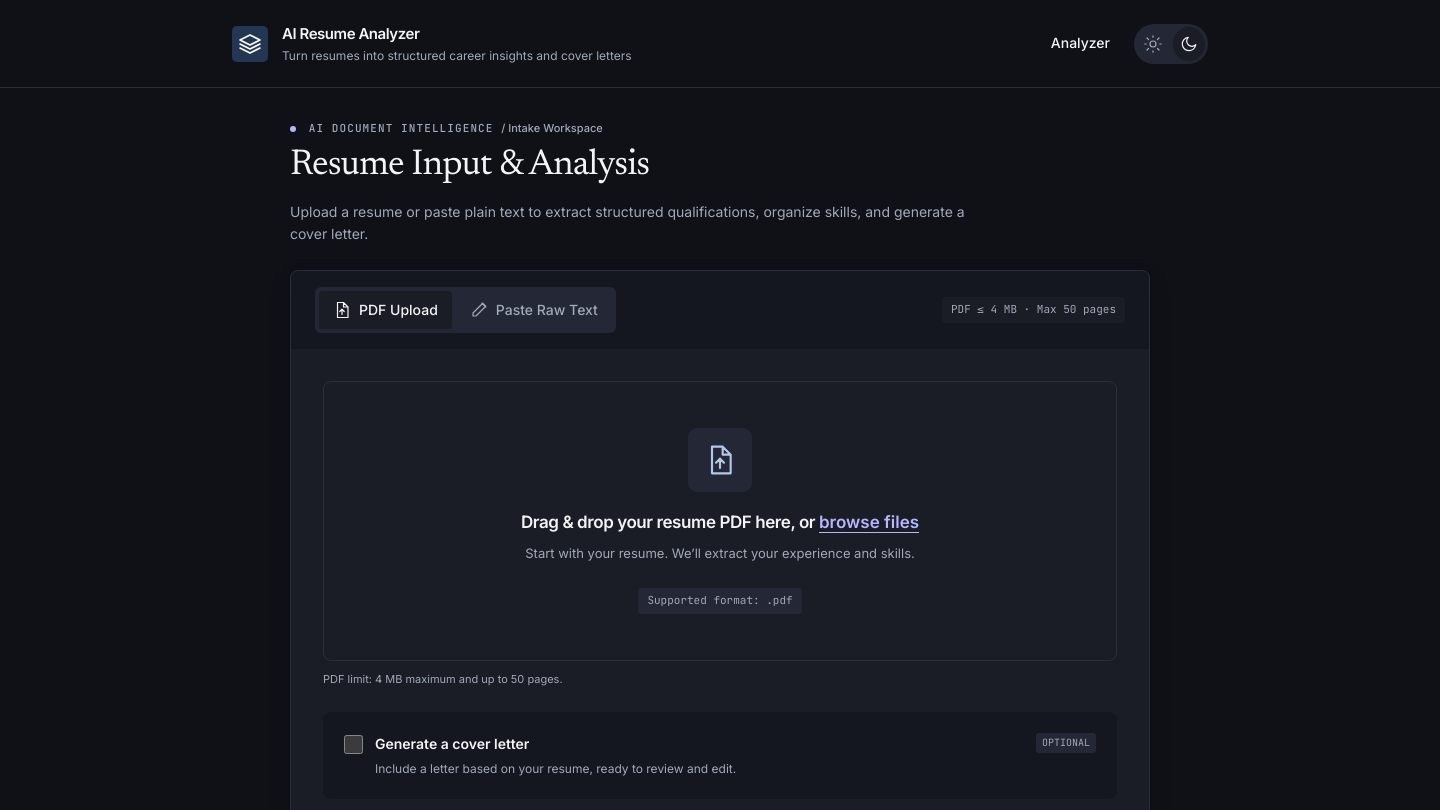
Test: switches between PDF upload and pasted resume text
Check: the button with aria-label "upload pdf" is shown, box left=819, top=510, right=919, bottom=536
Check: the text "PDF limit: 4 MB maximum and up to 50 pages." is shown, box left=323, top=672, right=563, bottom=686
Click the button with aria-label "paste text". click: (534, 310)
box: left=456, top=291, right=612, bottom=329
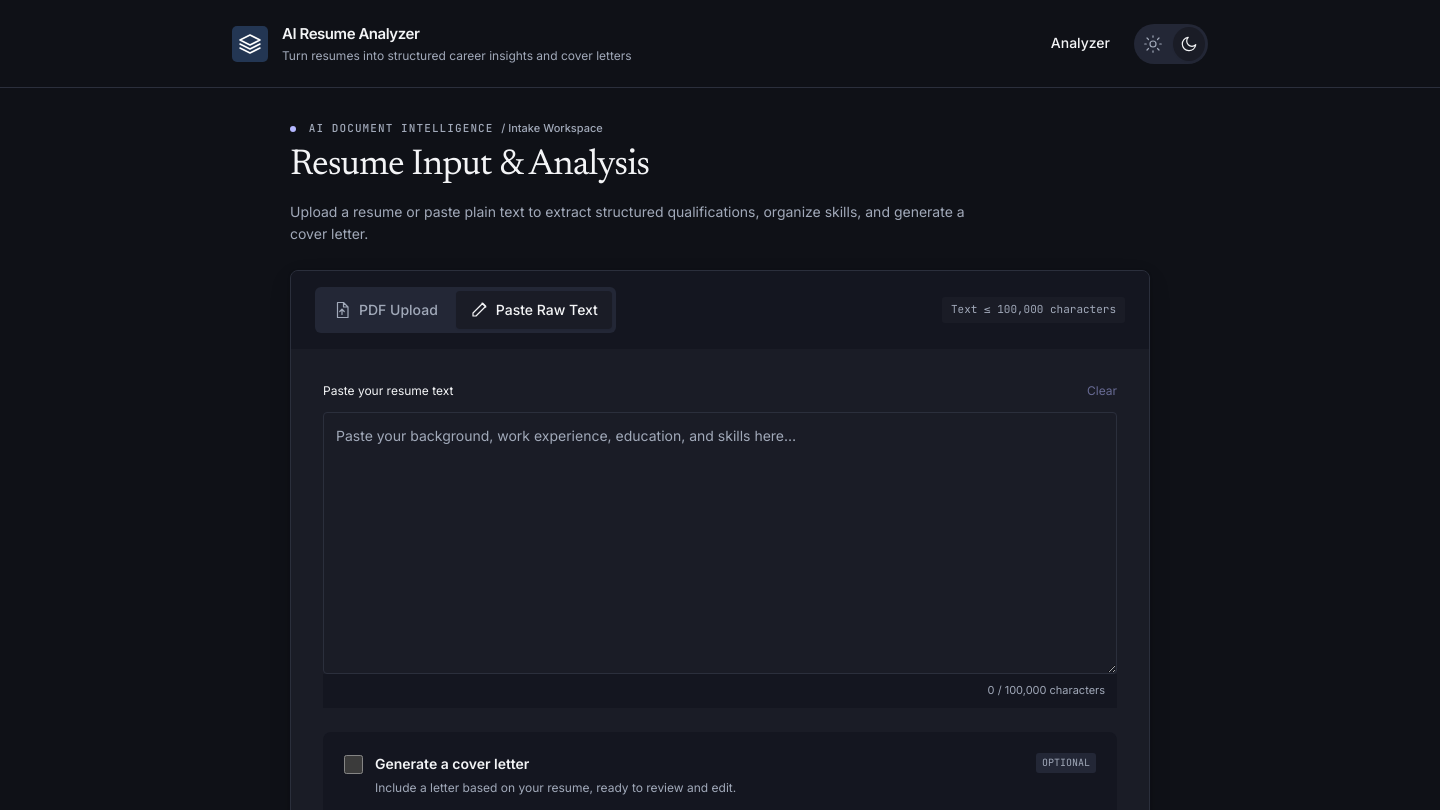
Check: the text box labelled "Paste your resume text" is shown
Check: the text "0 / 100,000 characters" is shown, box left=323, top=674, right=1117, bottom=708
Replace the text in the text box labelled "Paste your resume text" with "Resume content". click: (720, 543)
box: left=323, top=412, right=1117, bottom=674
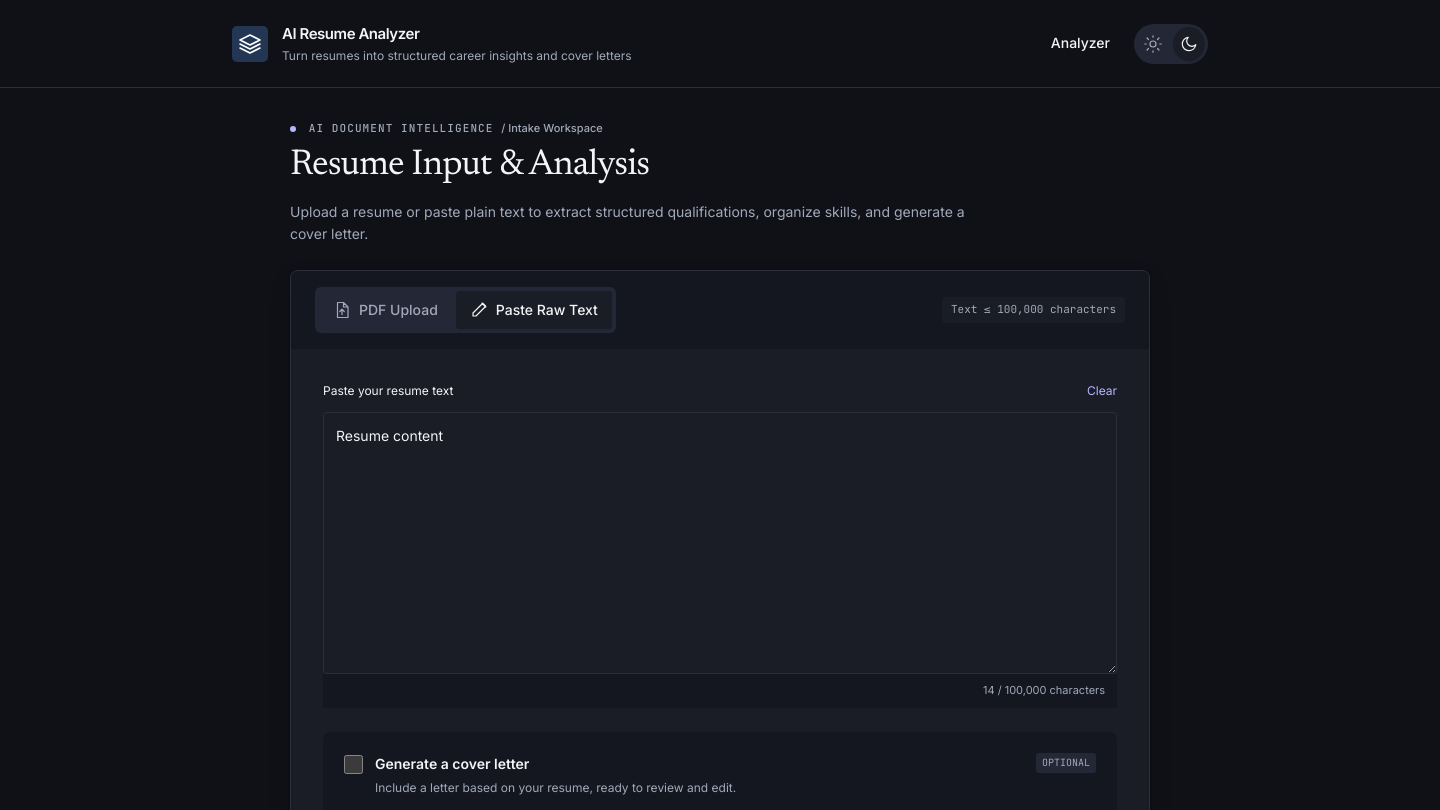
Click the button "PDF Upload". click: (385, 310)
box: left=319, top=291, right=452, bottom=329
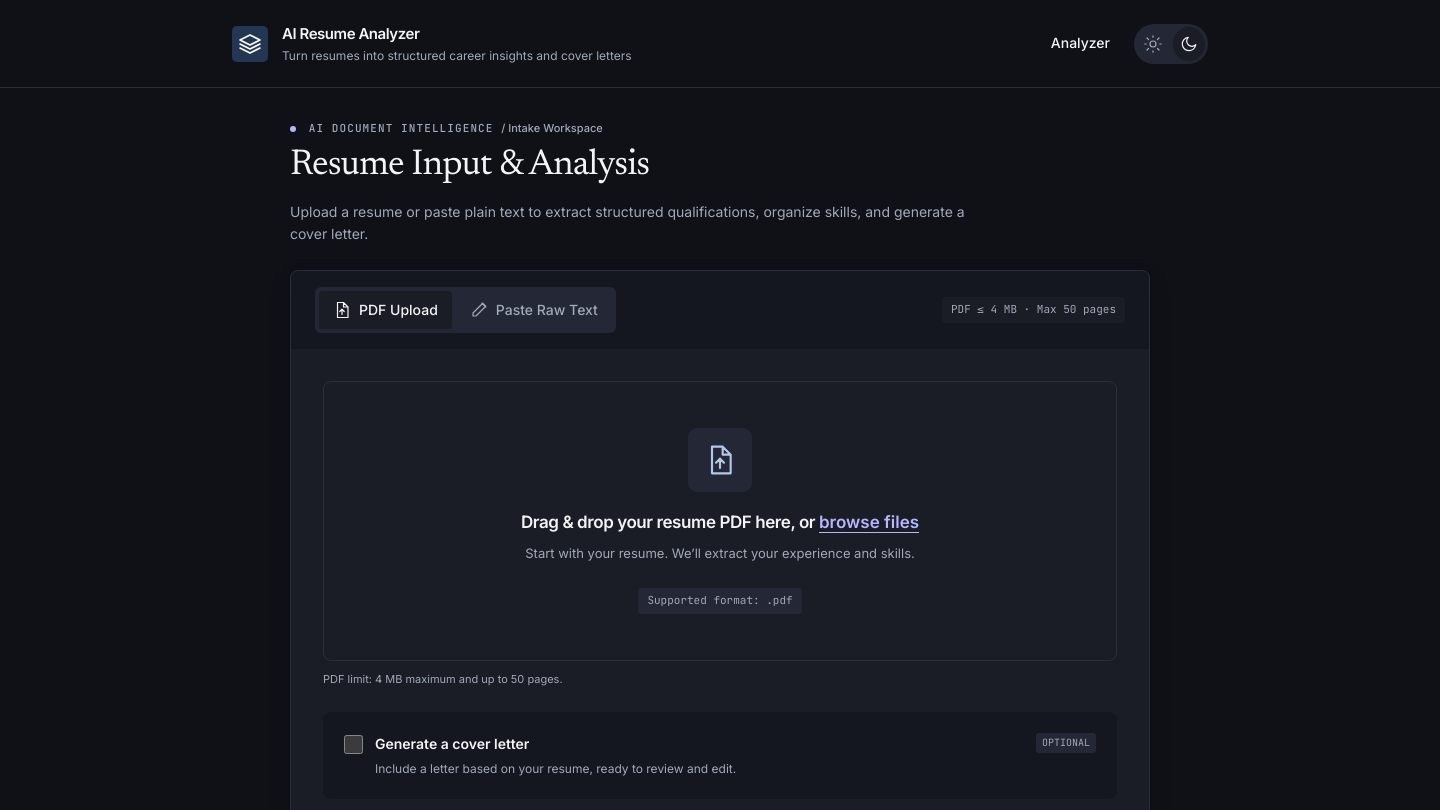
Check: the button with aria-label "upload pdf" is shown, box left=819, top=510, right=919, bottom=536
Click the button with aria-label "paste text". click: (534, 310)
box: left=456, top=291, right=612, bottom=329
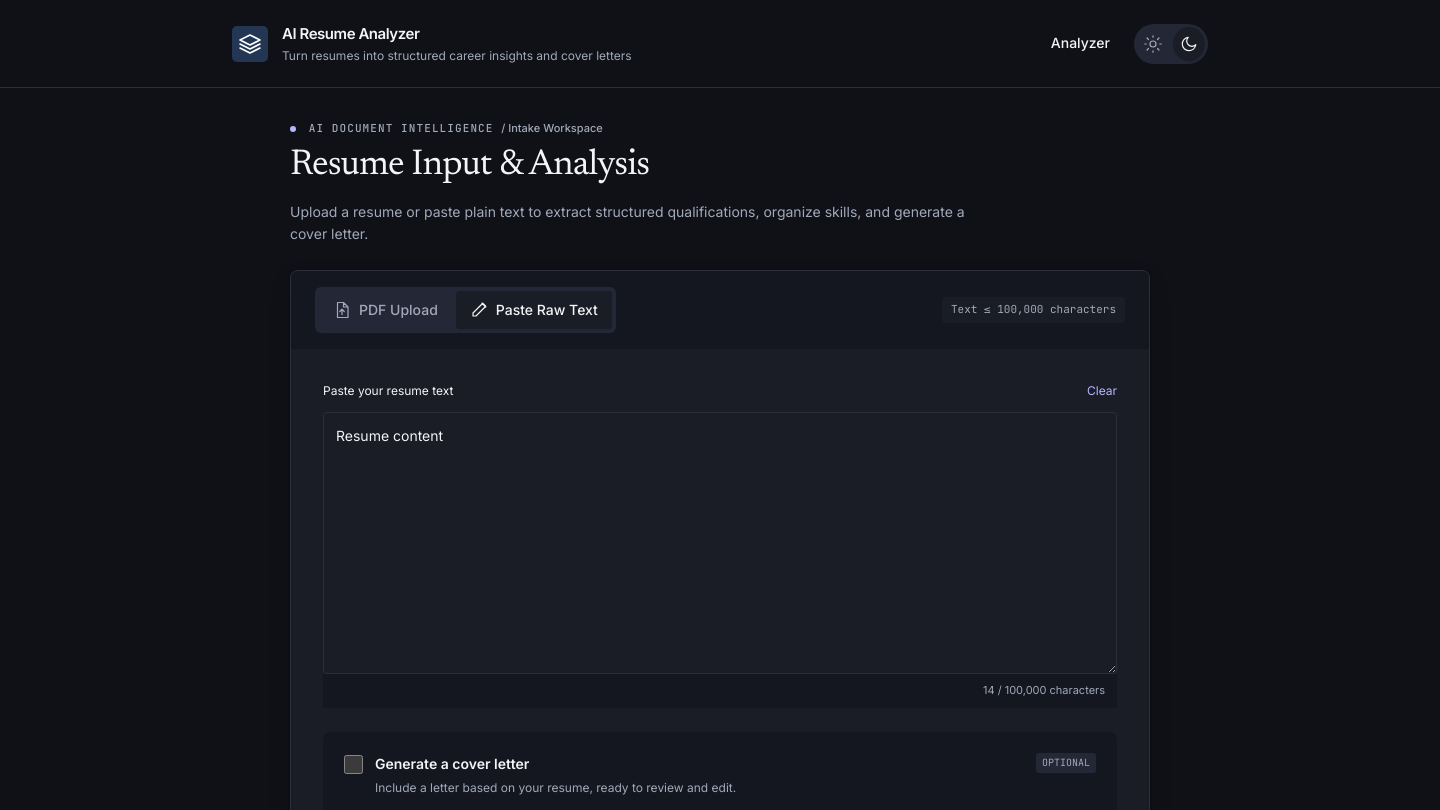
Check: the text box labelled "Paste your resume text" holds "Resume content", box left=323, top=412, right=1117, bottom=674
